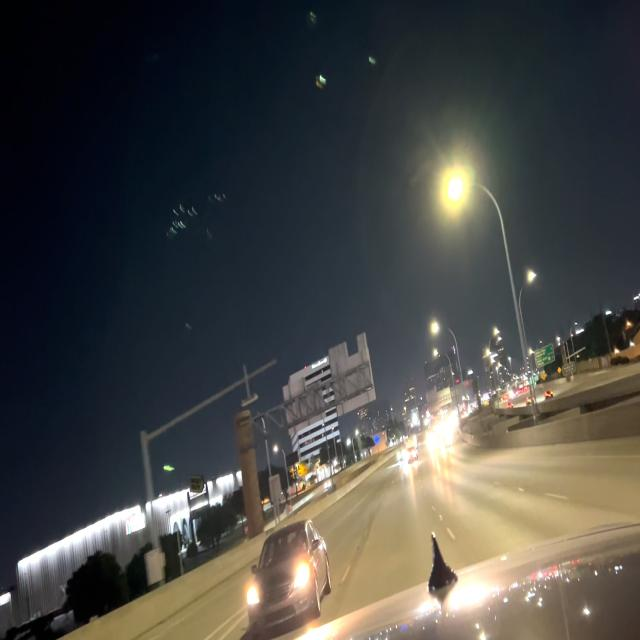back-of-sign: (328, 333, 377, 419), (281, 376, 326, 430), (426, 386, 452, 414), (268, 469, 282, 508)
